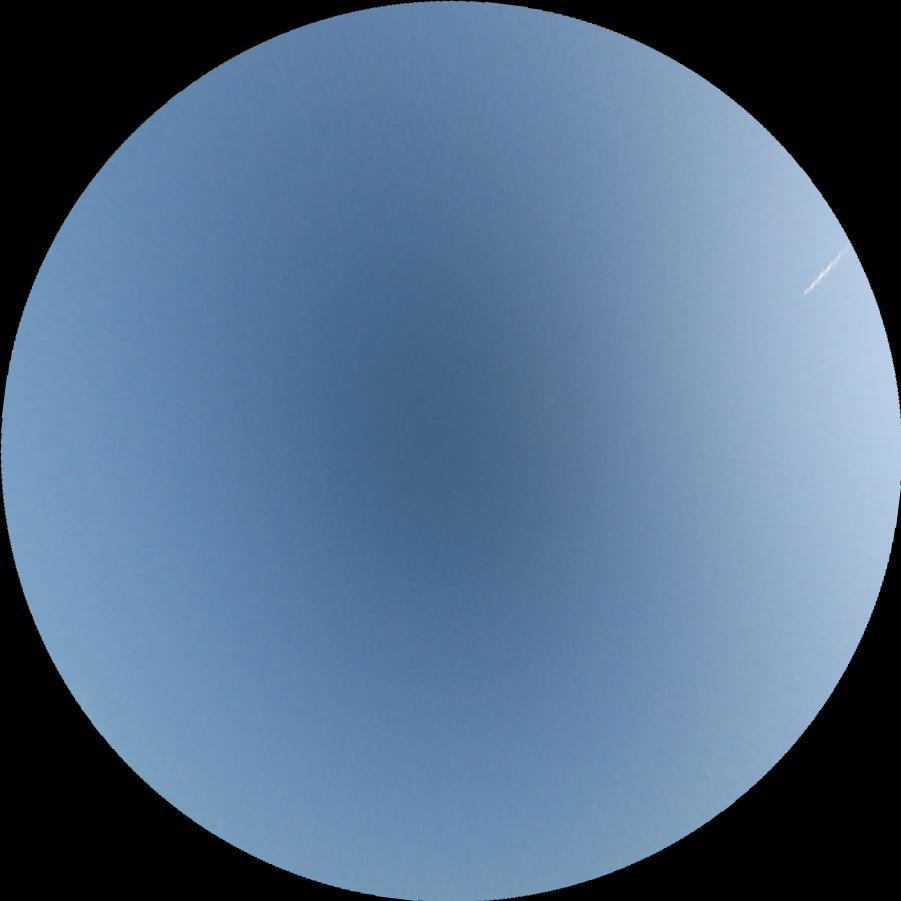contrail young: (800, 242, 852, 298)
